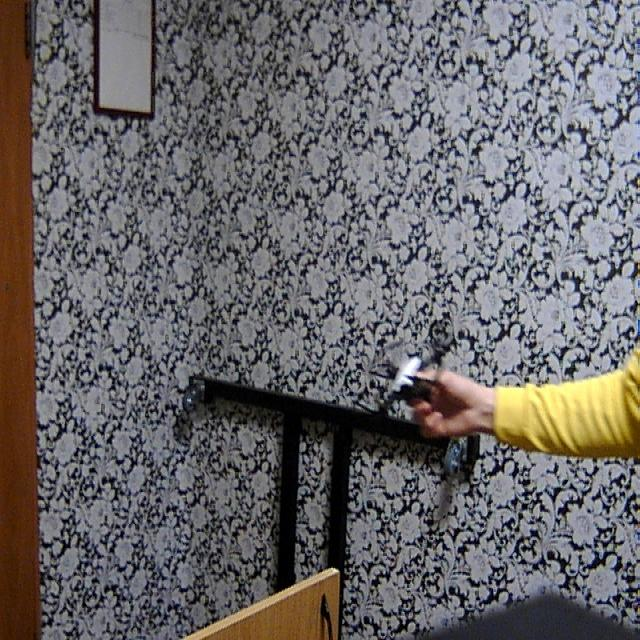drone: (352, 312, 457, 443)
